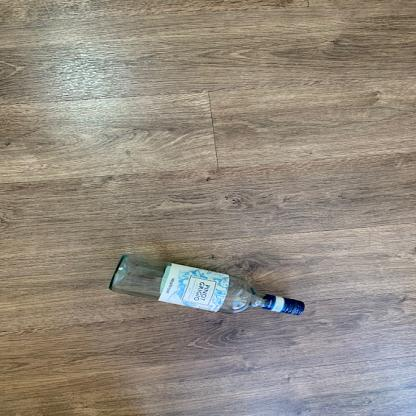trash: (106, 250, 317, 325)
